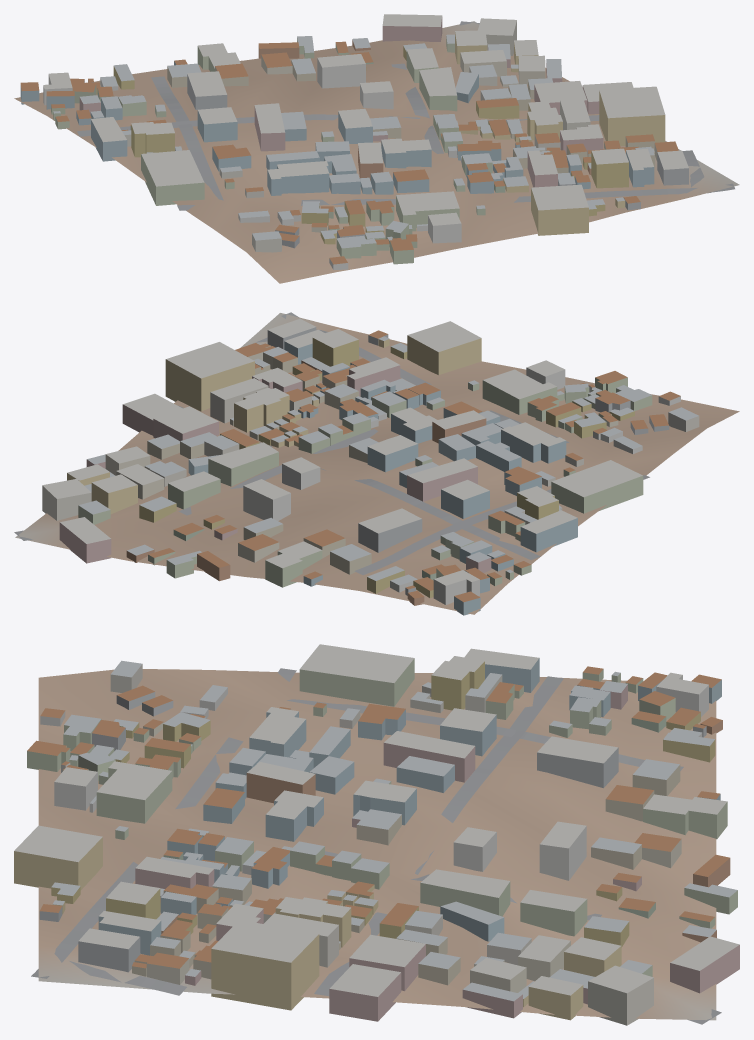
The picture shows the model from 3 angles, top to bottom: view 1: azimuth 30°, elevation 25°; view 2: azimuth 150°, elevation 25°; view 3: azimuth 270°, elevation 25°; orthographic projection. The views are drawn at different scales.
Parts seen in each view (by area): view 1: Lo; view 2: Lo; view 3: Lo.
Part boxes in pixels (x1=…): Lo: x1=14, y1=14, x2=739, y2=283; Lo: x1=14, y1=312, x2=739, y2=615; Lo: x1=14, y1=644, x2=739, y2=1025.
Bounding box in the file's own units: 277 × 37.49 × 274.
